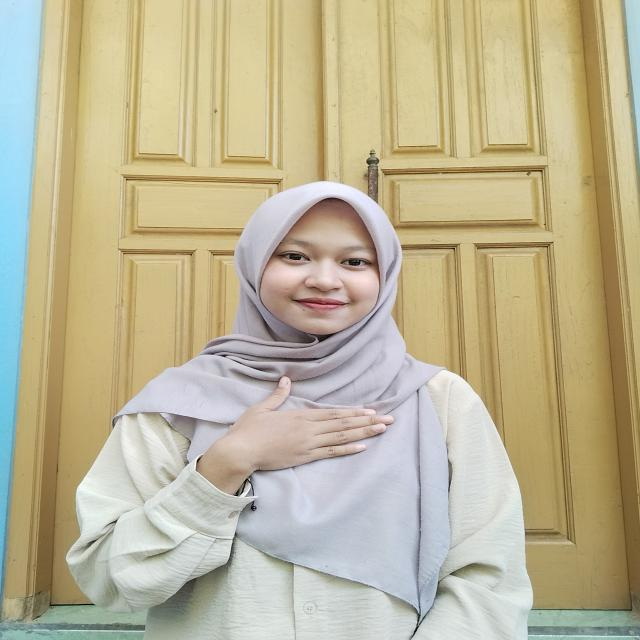tolong: (179, 375, 397, 489)
